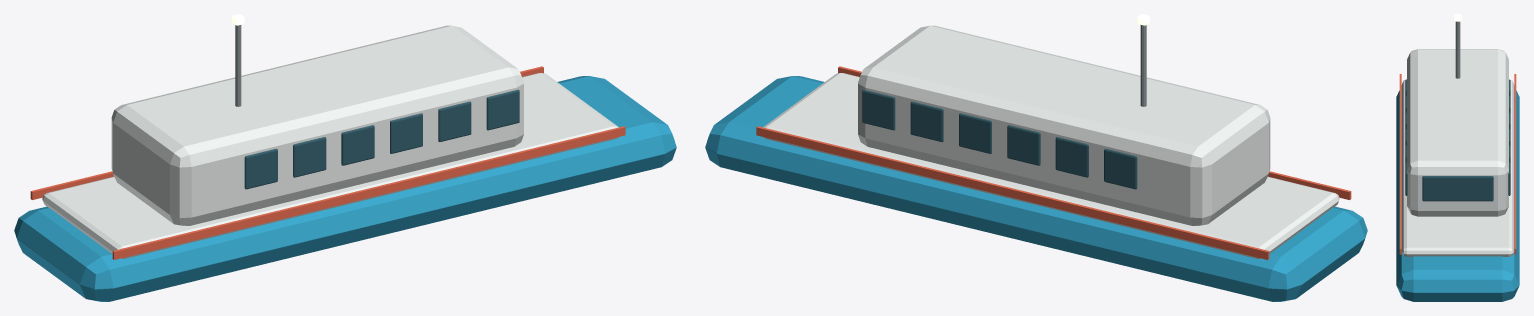
The model's file is transport-passenger-ferry.glb.
3 views of the same model, side by side, from view 1: azimuth 30°, elevation 25°; view 2: azimuth 150°, elevation 25°; view 3: azimuth 270°, elevation 25° (orthographic). The views are drawn at different scales.
Visible parts, largest first — view 1: PassengerFerry; view 2: PassengerFerry; view 3: PassengerFerry.
Boxes of the visible parts, x1=… form: PassengerFerry: x1=14, y1=14, x2=676, y2=301; PassengerFerry: x1=705, y1=14, x2=1367, y2=301; PassengerFerry: x1=1396, y1=14, x2=1519, y2=301.
Bounding box in the file's own units: 17.2 × 6.13 × 4.4.
